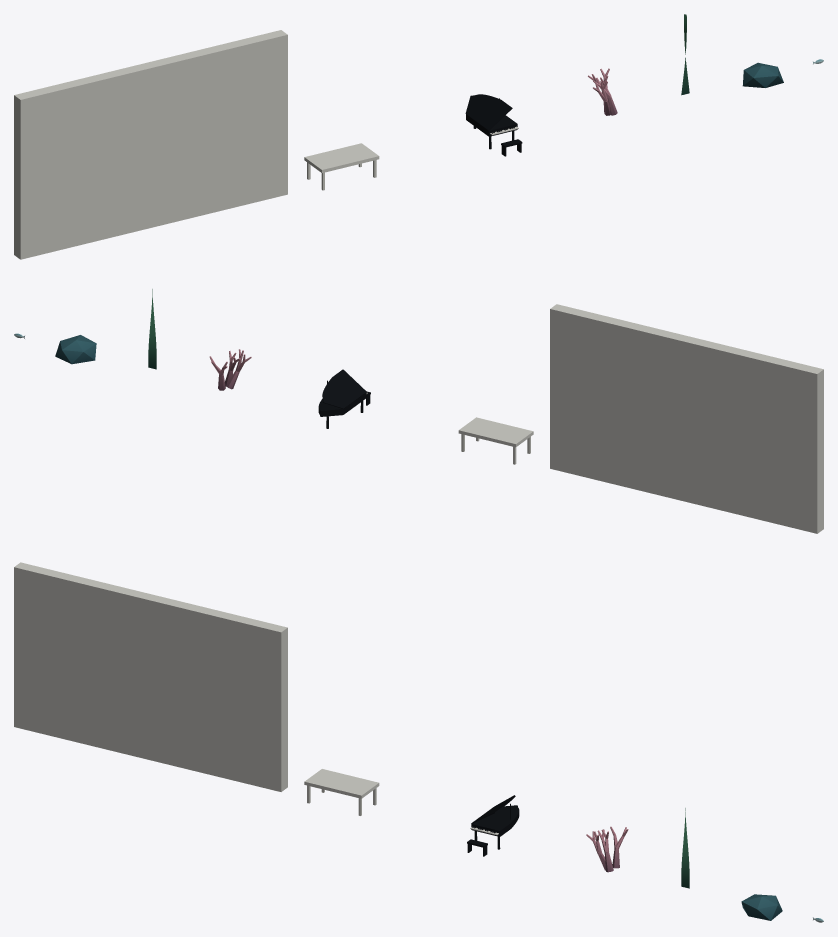
The model's file is props.glb.
3 views of the same model, one above another, from view 1: azimuth 30°, elevation 25°; view 2: azimuth 150°, elevation 25°; view 3: azimuth 330°, elevation 25° (orthographic).
Parts seen in each view (by area): view 1: white_wall, piano, white_table, rock, coral; view 2: white_wall, piano, white_table, rock, coral; view 3: white_wall, white_table, piano, rock, coral.
Boxes of the visible parts, bbox=[...] form: white_wall: bbox=[14, 30, 287, 259]; piano: bbox=[465, 94, 522, 156]; white_table: bbox=[304, 143, 379, 190]; rock: bbox=[742, 62, 783, 87]; coral: bbox=[588, 68, 617, 115]; white_wall: bbox=[550, 304, 823, 533]; piano: bbox=[318, 369, 370, 428]; white_table: bbox=[458, 417, 533, 464]; rock: bbox=[55, 335, 96, 364]; coral: bbox=[209, 349, 251, 390]; white_wall: bbox=[14, 562, 287, 791]; white_table: bbox=[304, 769, 379, 815]; piano: bbox=[467, 795, 519, 856]; rock: bbox=[741, 894, 782, 920]; coral: bbox=[586, 826, 628, 872].
Bounding box in the file's own units: 42.25 × 8.51 × 3.72.
